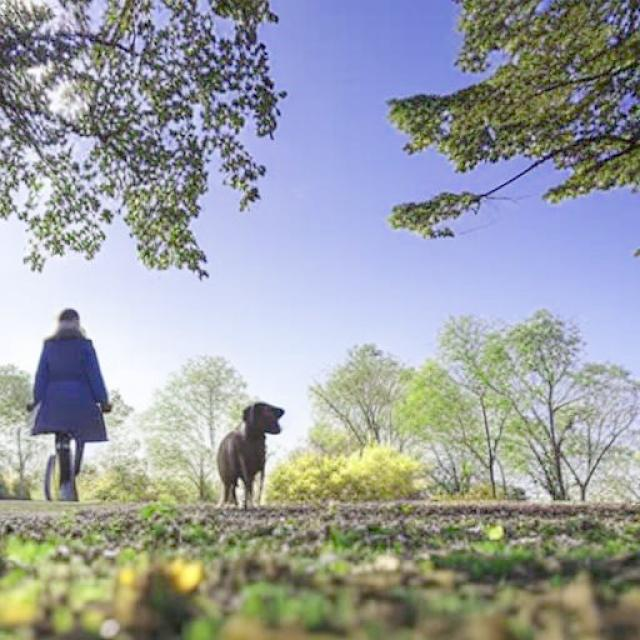Unleashed_Dog: (54, 400, 284, 506)
